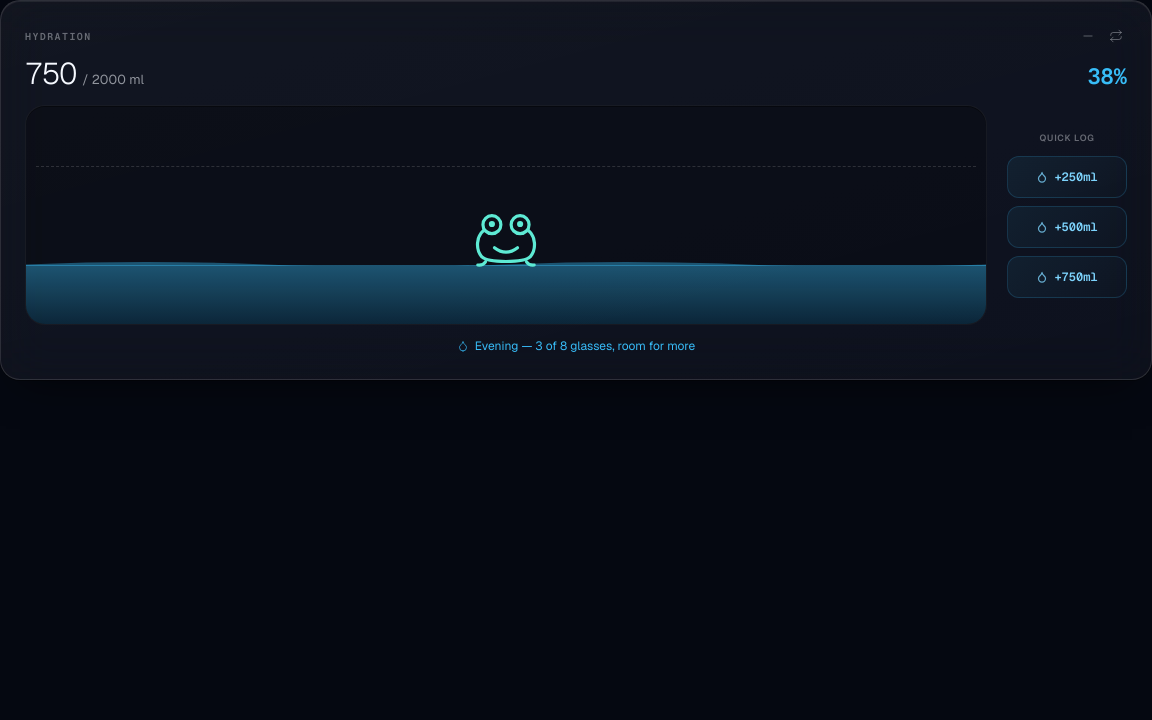
Test: WaterCard › logs a glass when the vessel is tapped
The width and height of the screenshot is (1152, 720).
Click the button named "Log a glass of water". click: [506, 215]
box: left=25, top=105, right=987, bottom=325
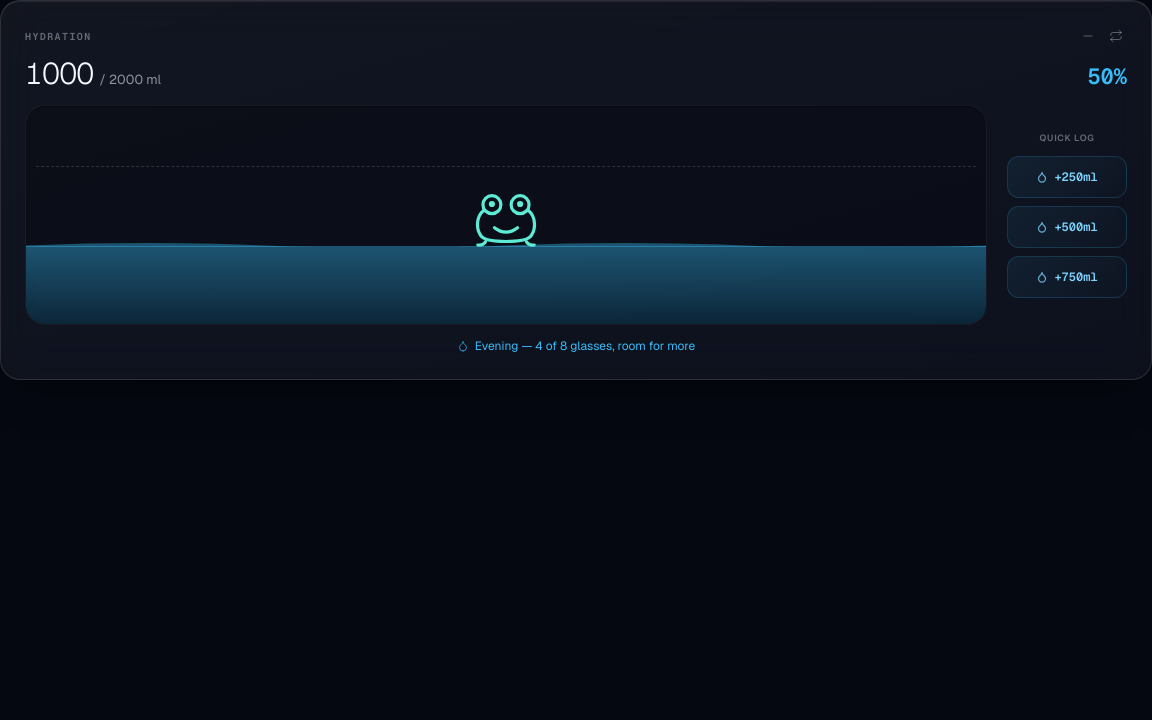
Result: the text "1000" is shown at left=25, top=59, right=93, bottom=89
